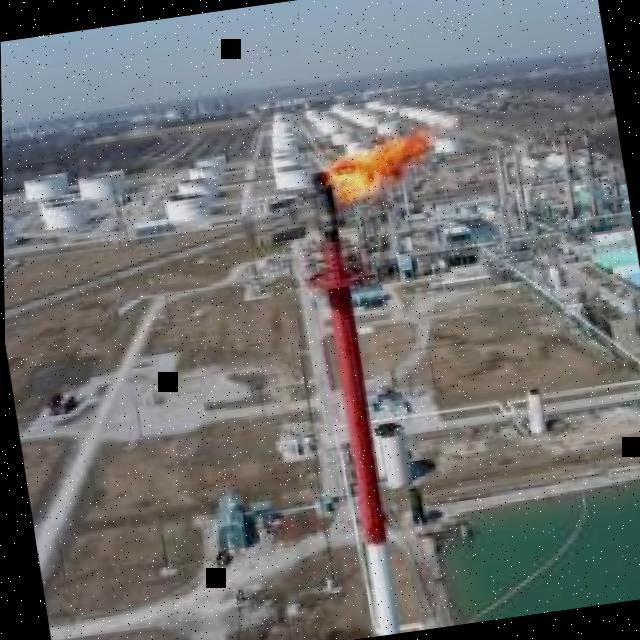fire: (326, 124, 436, 204)
